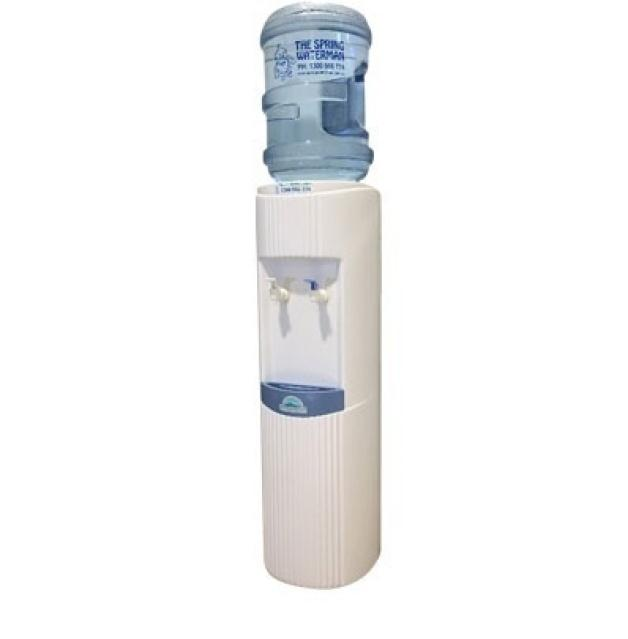Dispenser: (255, 2, 380, 588)
